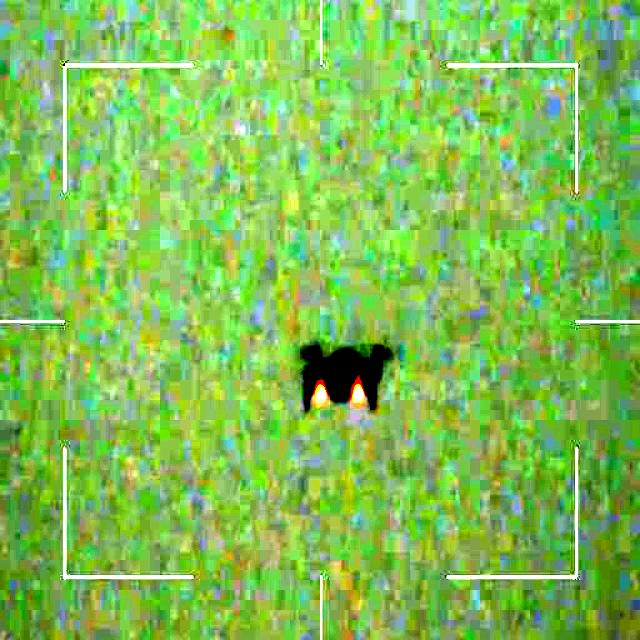bird: (298, 342, 394, 411)
